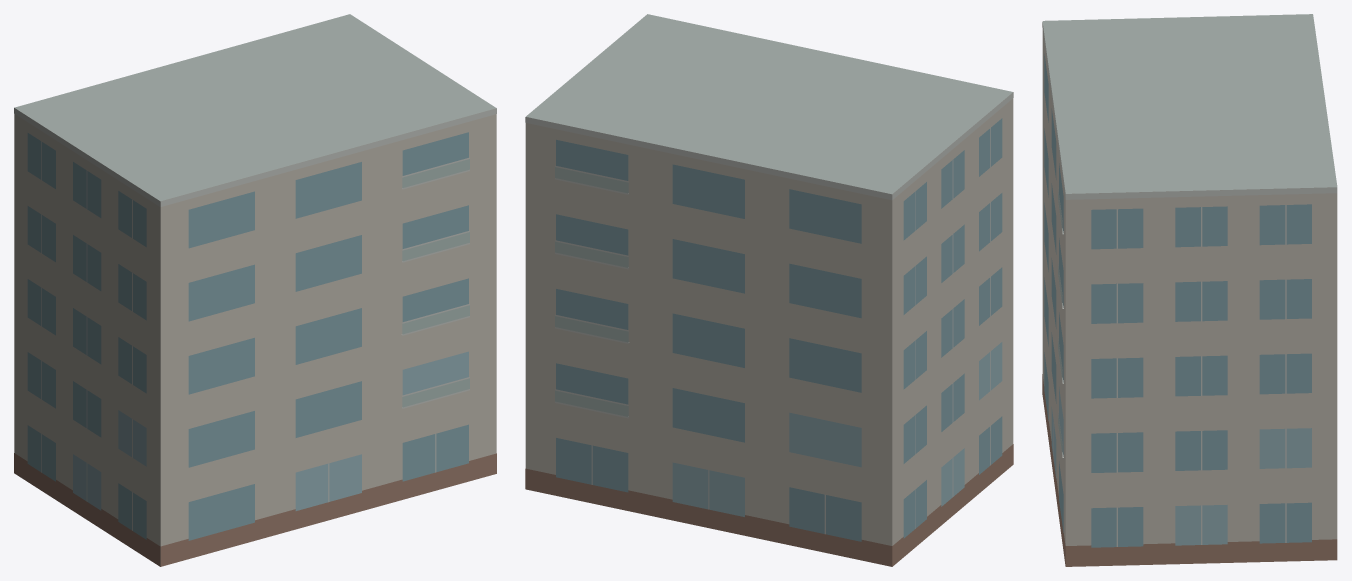
The model's file is survey-upis-32696736.glb.
3 renders of one model, left to right at view 1: azimuth 30°, elevation 25°; view 2: azimuth 150°, elevation 25°; view 3: azimuth 270°, elevation 25°, orthographic. The views are drawn at different scales.
Parts seen in each view (by area): view 1: survey-upis-32696736.tmp; view 2: survey-upis-32696736.tmp; view 3: survey-upis-32696736.tmp.
Part boxes in pixels (left/top/right/bottom): survey-upis-32696736.tmp: left=14, top=14, right=496, bottom=566; survey-upis-32696736.tmp: left=525, top=14, right=1013, bottom=566; survey-upis-32696736.tmp: left=1042, top=14, right=1337, bottom=566.
Bounding box in the file's own units: 15.74 × 15.2 × 10.91.
